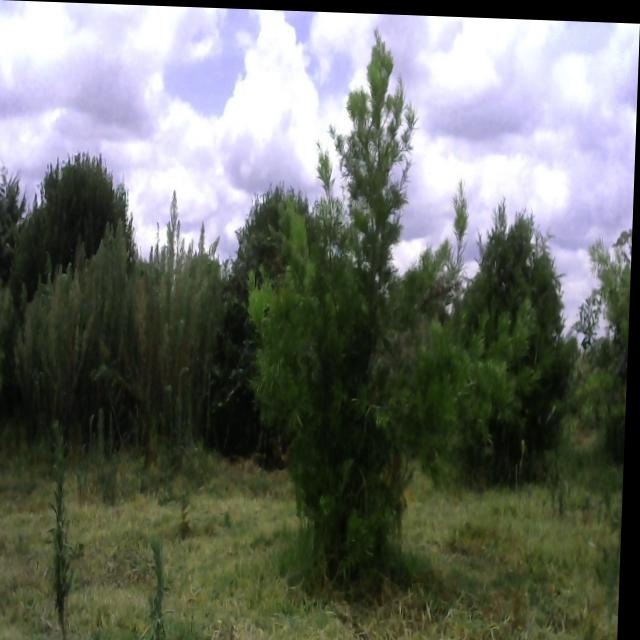Podocarpus falcatus: (245, 18, 500, 610)
